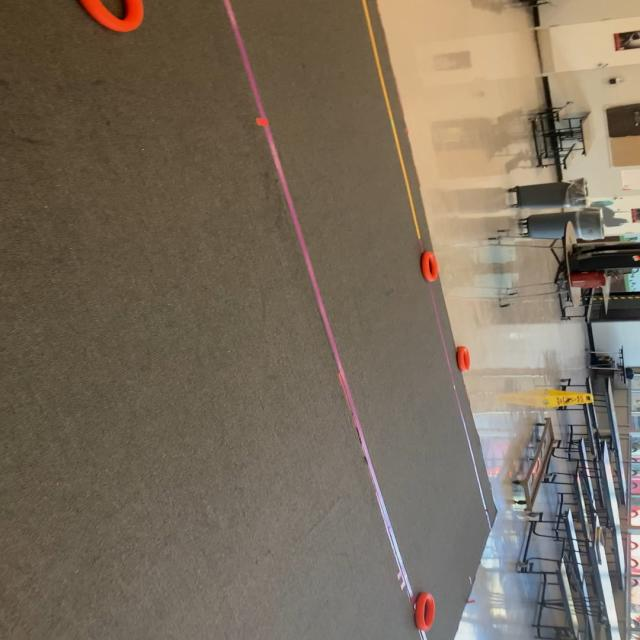notes: (81, 0, 149, 34), (409, 591, 440, 629), (418, 248, 441, 282), (454, 344, 477, 374)
